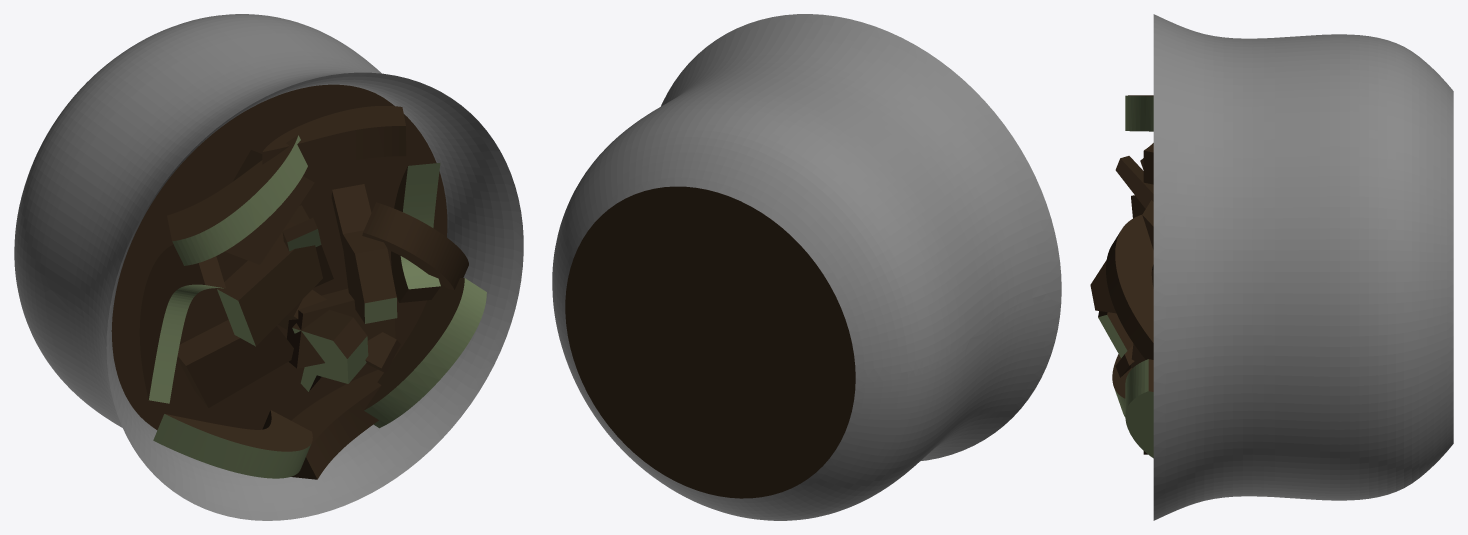
The model's file is Farikal.glb.
3 renders of one model, left to right at view 1: azimuth 30°, elevation 25°; view 2: azimuth 150°, elevation 25°; view 3: azimuth 270°, elevation 25°, orthographic. The views are drawn at different scales.
Visible parts, largest first — view 1: Fårikålgryte.stl; view 2: Fårikålgryte.stl; view 3: Fårikålgryte.stl.
Boxes of the visible parts, <box> form: Fårikålgryte.stl: <box>14,14,523,520</box>; Fårikålgryte.stl: <box>552,14,1061,520</box>; Fårikålgryte.stl: <box>1090,14,1453,520</box>.
Size of the model in its own units: 2.87 by 2.87 by 2.06.
